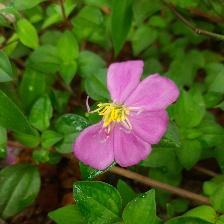malabar melastome: (73, 57, 179, 171)
